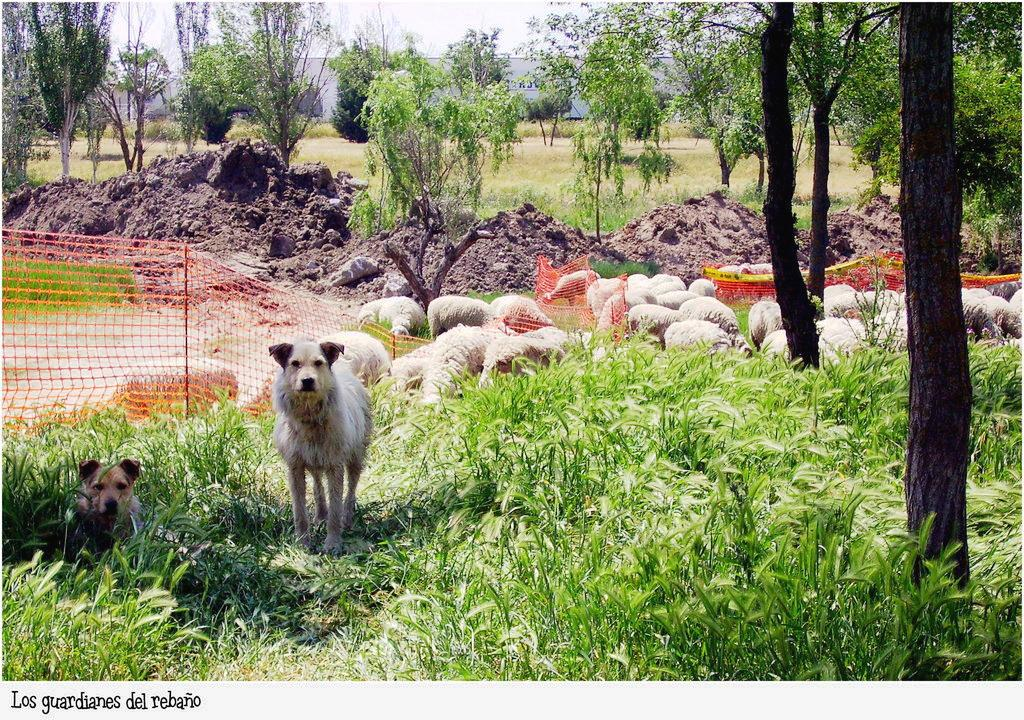Sheep: (809, 268, 1023, 347), (573, 272, 745, 355), (108, 352, 252, 426), (304, 327, 389, 401), (465, 326, 569, 382), (420, 323, 486, 411), (350, 291, 425, 336), (420, 292, 496, 330), (479, 289, 553, 324), (535, 267, 598, 298), (744, 297, 782, 332), (752, 330, 786, 358)
